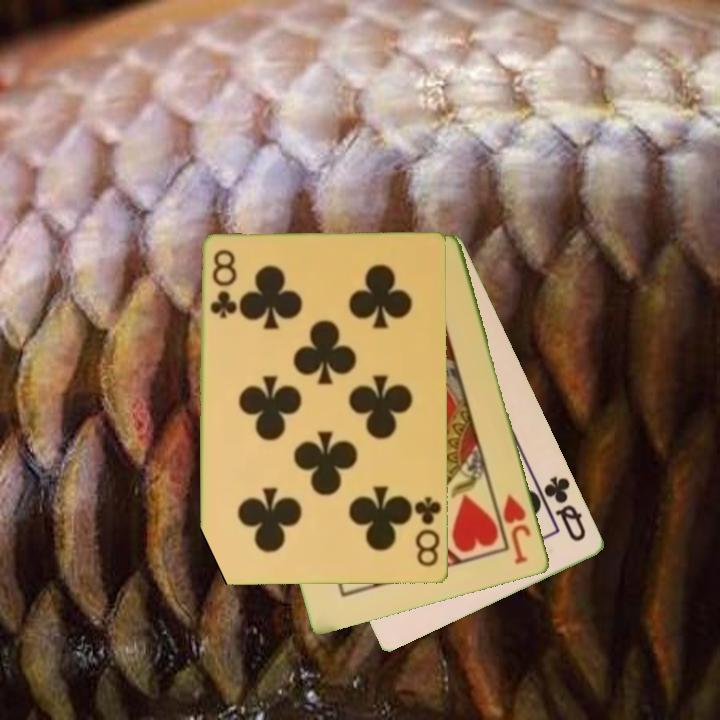8c: (412, 493, 445, 570), (207, 247, 237, 322)
Jh: (500, 491, 535, 568)
Qc: (540, 472, 590, 545)
